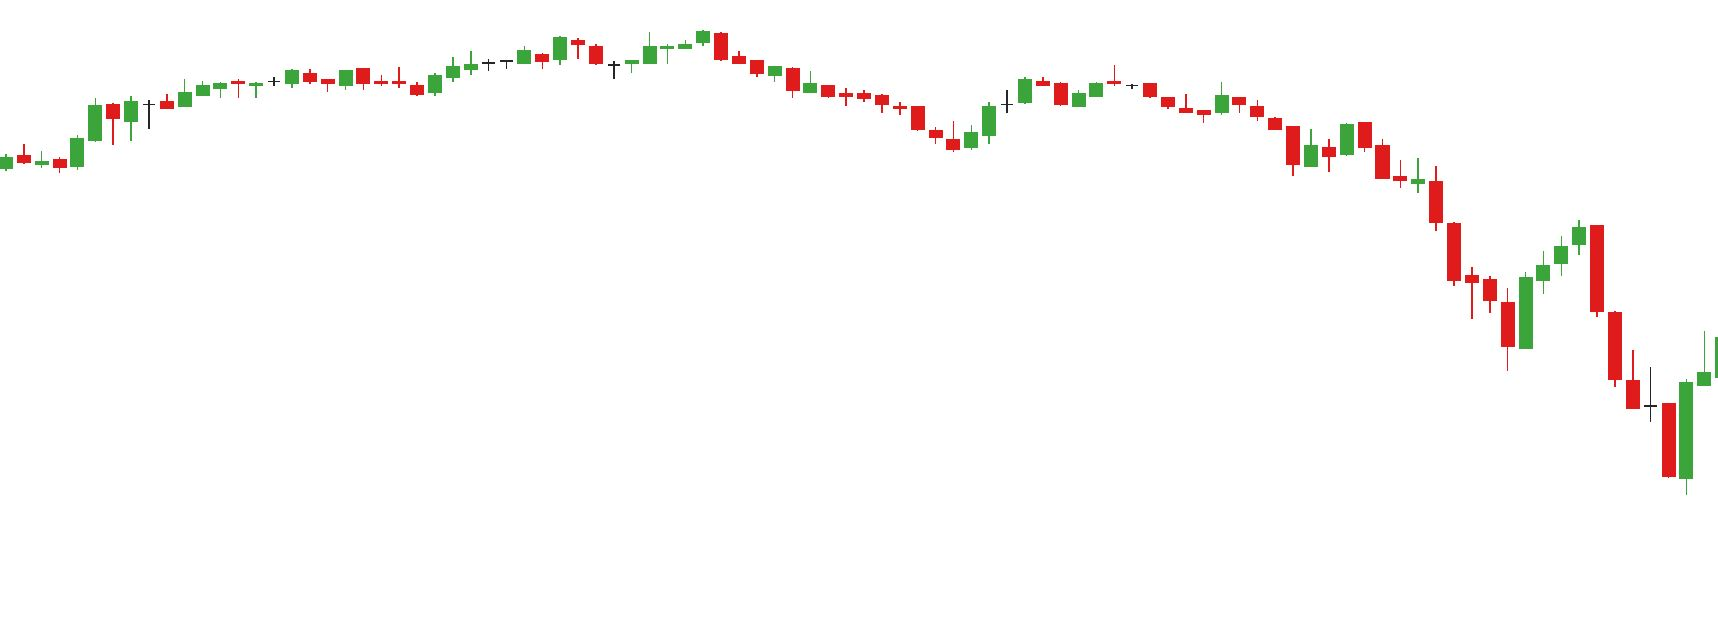sell: (548, 29, 731, 67)
